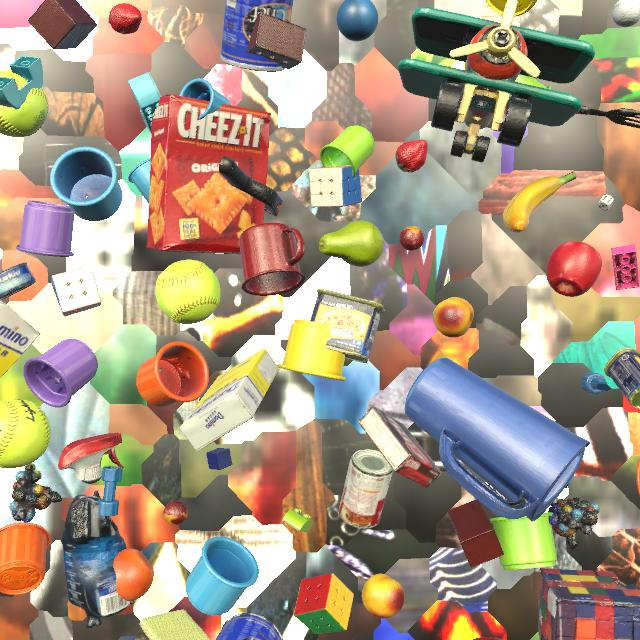ycb_002_master_chef_can: (220, 0, 293, 72), (216, 613, 283, 640)
ycb_003_cracker_box: (147, 94, 271, 254)
ycb_004_sugar_box: (179, 348, 279, 451), (0, 300, 40, 378)
ycb_005_tomato_soup_can: (338, 449, 393, 529)
ycb_007_tuna_fish_can: (0, 262, 36, 300)
ycb_008_pudding_box: (358, 405, 442, 488)
ycb_010_potted_meat_can: (310, 289, 385, 363), (604, 347, 640, 410)
ycb_011_banana: (503, 172, 577, 233)
ycb_012_strawberry: (395, 140, 428, 173), (108, 3, 142, 34)
ycb_013_apple: (546, 241, 602, 297)
ycb_014_lemon: (464, 60, 467, 70)
ycb_015_peach: (362, 574, 404, 618), (433, 297, 474, 338)
ycb_016_pear: (319, 220, 385, 267)
ycb_017_orange: (113, 548, 154, 601)
